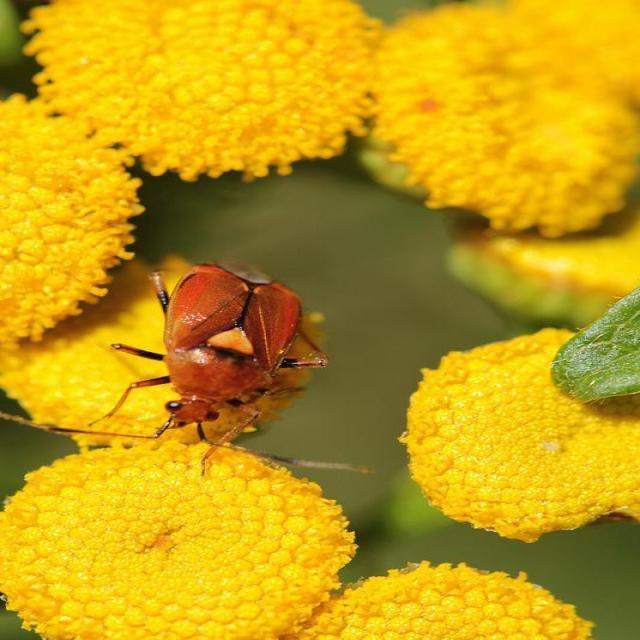Miridae-Adult-: (82, 254, 372, 473)
